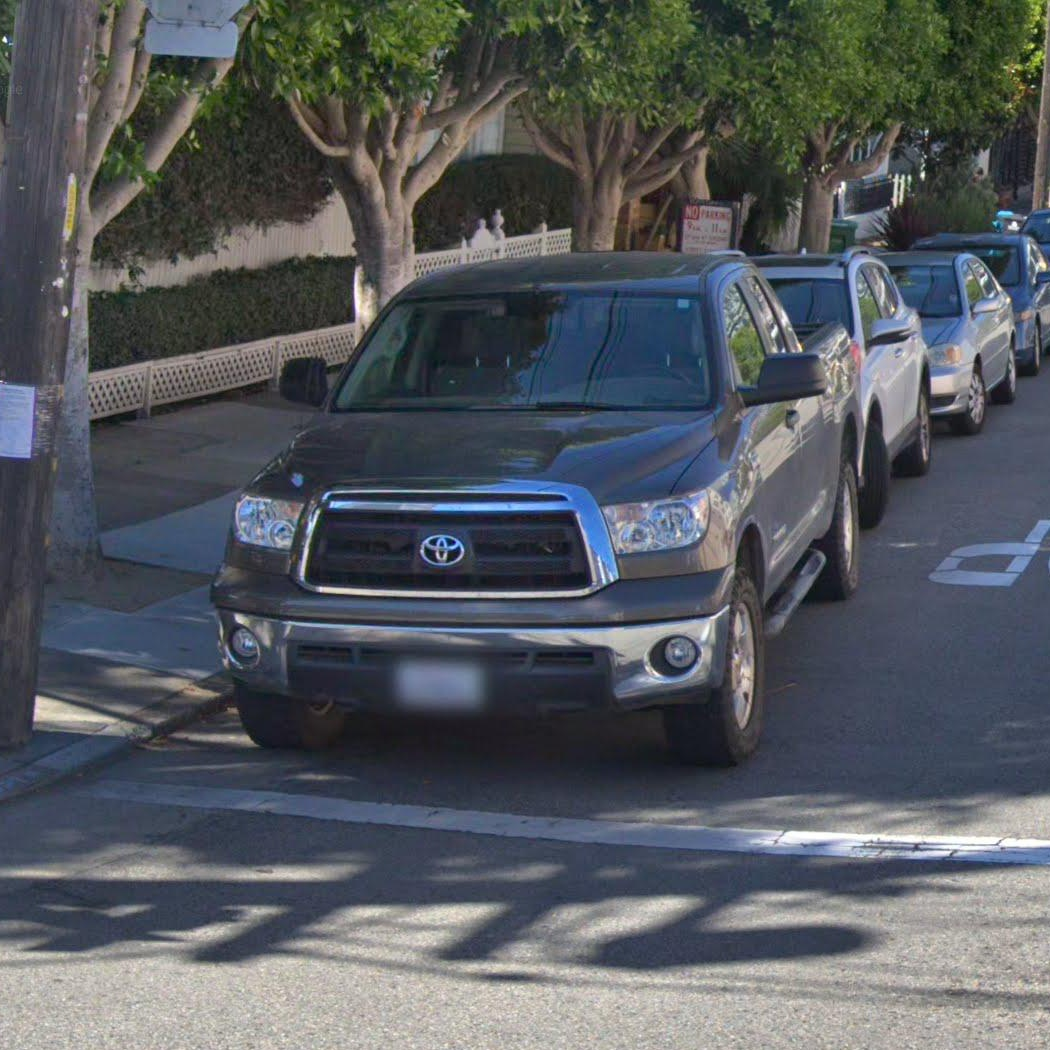No Parking: (678, 201, 734, 254)
